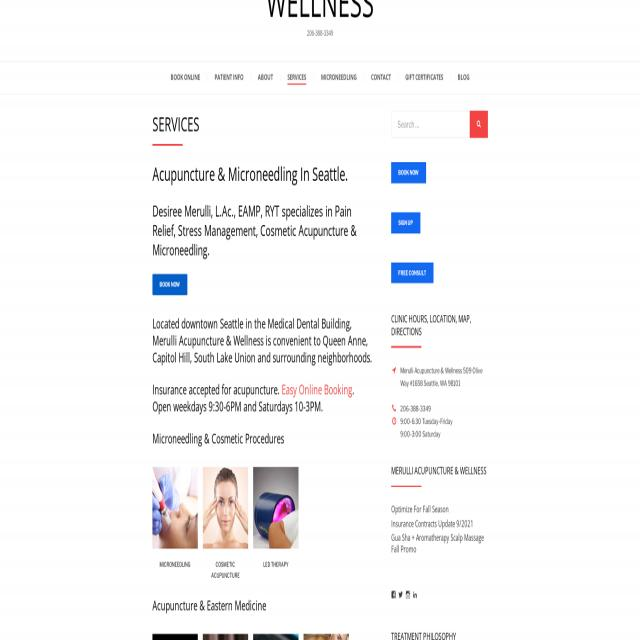button: (184, 0, 456, 40), (152, 466, 198, 548), (253, 466, 299, 548), (203, 466, 248, 548), (398, 61, 450, 94), (314, 61, 364, 94), (163, 61, 207, 94), (208, 61, 250, 94), (280, 61, 314, 94), (364, 61, 398, 94), (251, 61, 280, 94), (391, 262, 433, 284), (450, 61, 477, 94), (152, 274, 188, 296), (391, 162, 426, 184), (391, 212, 421, 234), (470, 110, 488, 138), (398, 590, 404, 599), (412, 590, 418, 599), (391, 590, 396, 599), (406, 590, 410, 599)
field: (391, 110, 469, 138)
